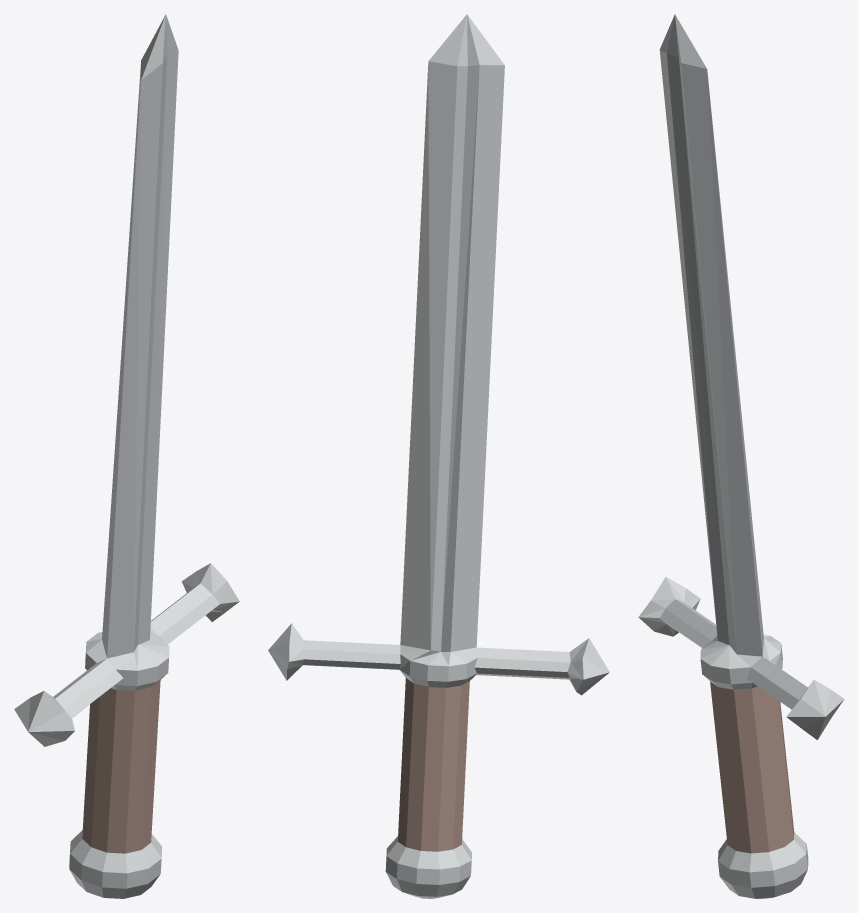
File: sword.dae
3 renders of one model, left to right at view 1: azimuth 30°, elevation 25°; view 2: azimuth 150°, elevation 25°; view 3: azimuth 270°, elevation 25°, orthographic. The views are drawn at different scales.
Visible parts, largest first — view 1: group1818331932; view 2: group1818331932; view 3: group1818331932.
Boxes of the visible parts, <box> form: group1818331932: <box>14,14,239,898</box>; group1818331932: <box>268,14,609,898</box>; group1818331932: <box>638,14,844,898</box>.
Size of the model in its own units: 0.3646 by 0.2389 by 1.13.
